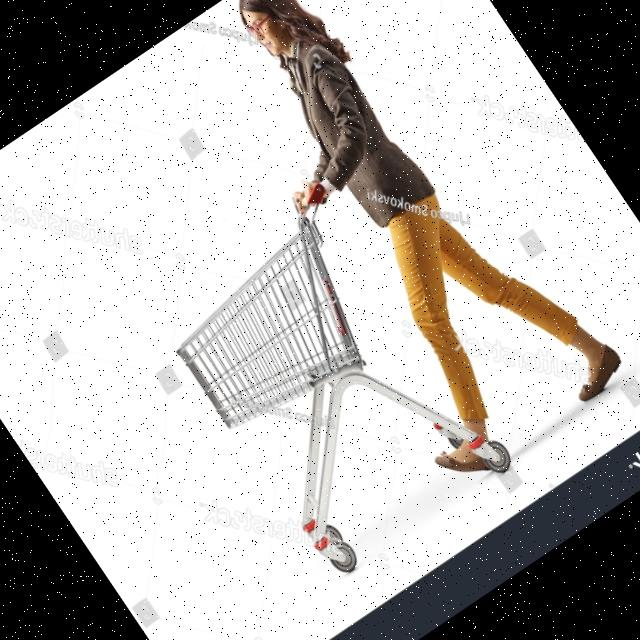Person: (155, 0, 631, 492)
